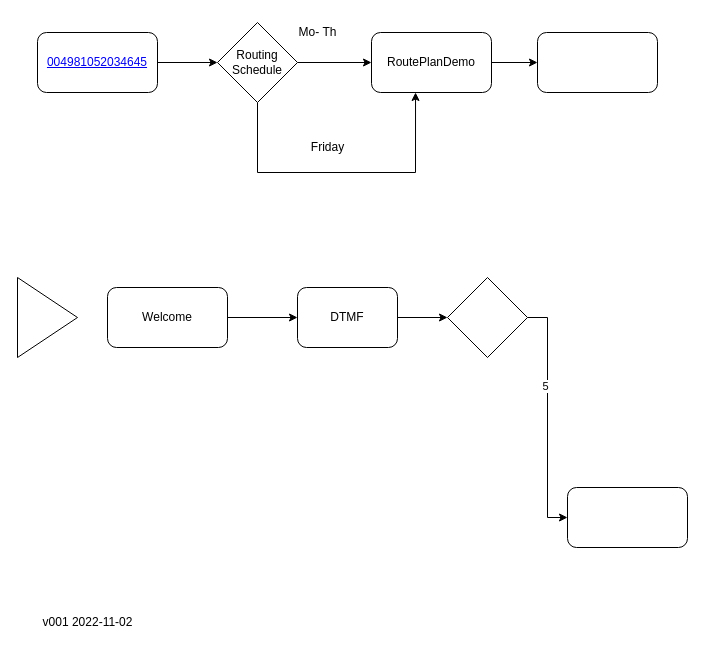
Image size: 705x654. Some labels were removed from this diagram. Here are the shapes that lost their labels. From the top down, the box of each, then its label:
(536, 32, 658, 92): Flow_Alex_01
(566, 486, 688, 548): Route to Agent
